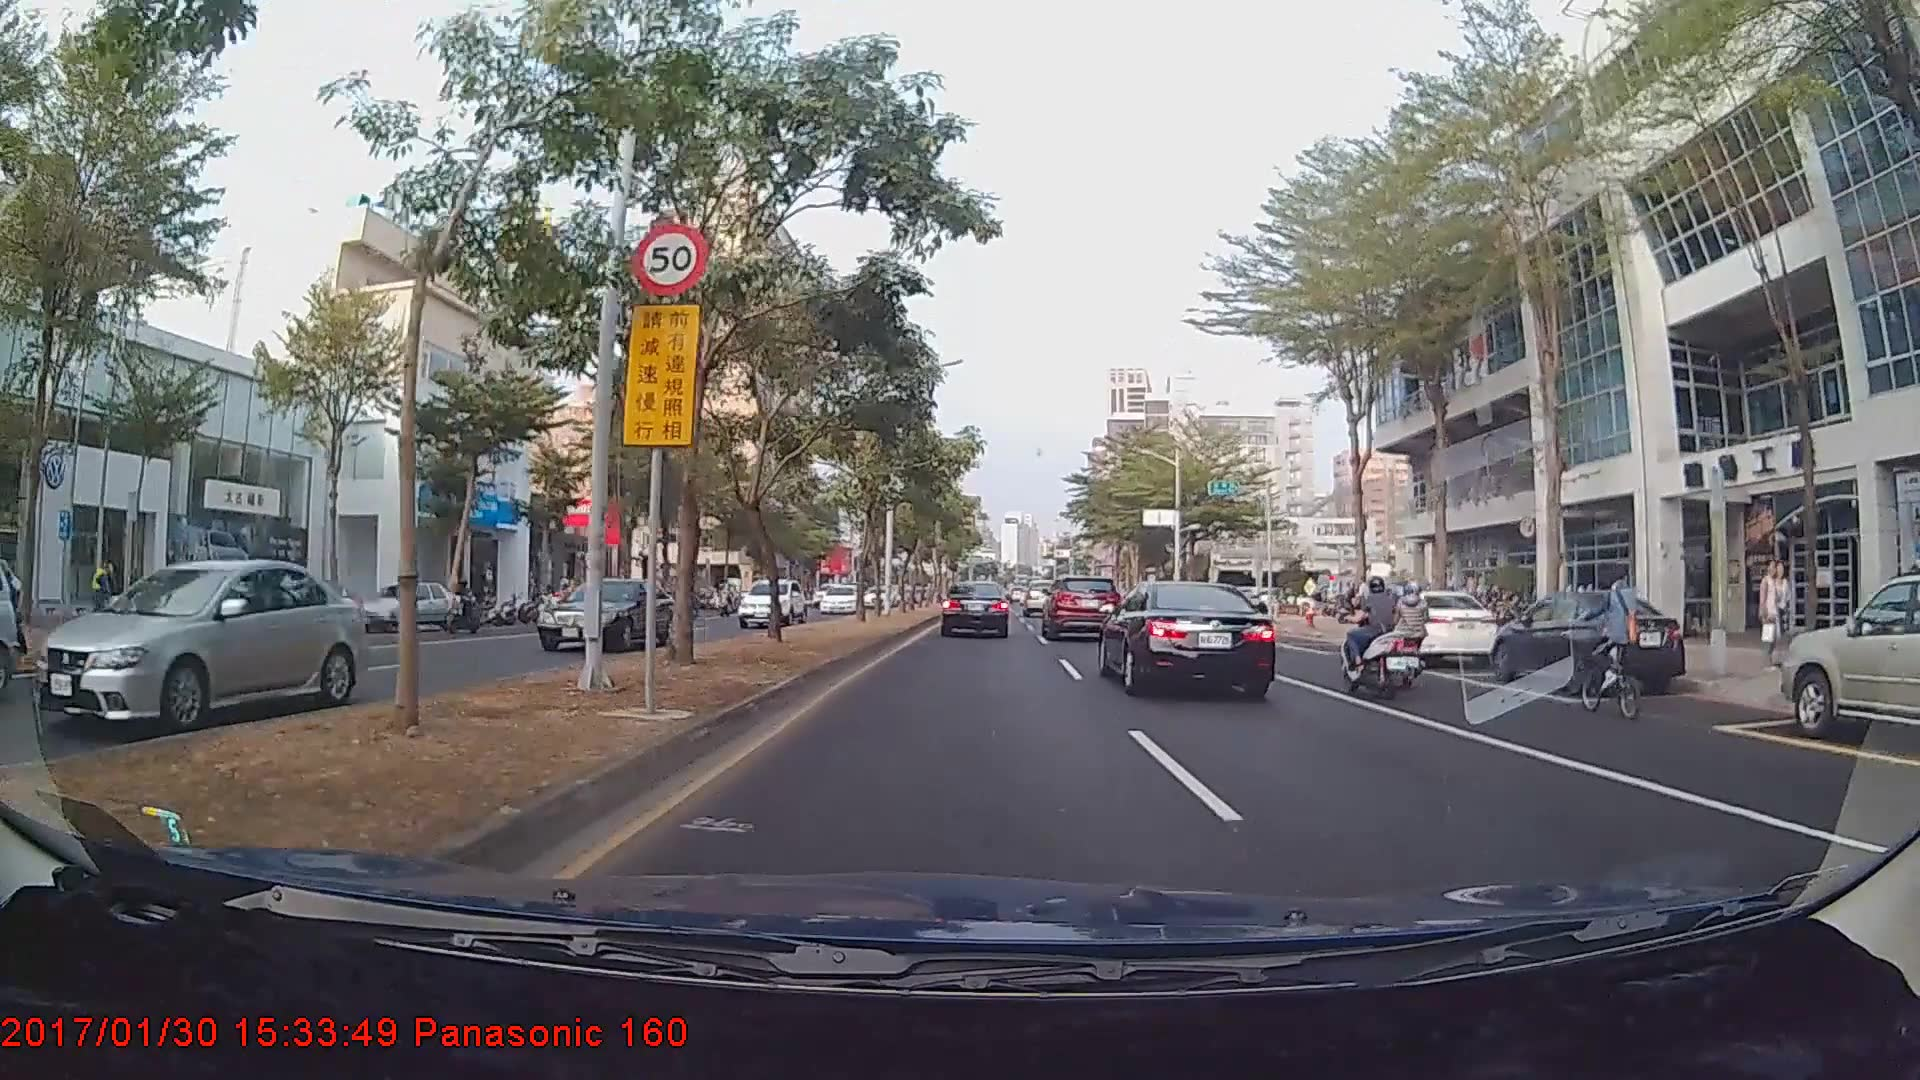pedestrian: (1758, 565, 1781, 669), (1775, 563, 1795, 665)
rider: (1572, 570, 1654, 727), (1338, 574, 1422, 706), (1386, 580, 1437, 684)
vehicle: (30, 555, 368, 735), (1779, 569, 1920, 752), (1100, 573, 1276, 700), (1493, 584, 1687, 697), (1361, 590, 1503, 672), (532, 574, 675, 653), (352, 580, 462, 632), (1043, 574, 1118, 638), (939, 579, 1010, 639), (735, 578, 807, 629), (1022, 580, 1062, 618), (818, 583, 858, 615)
